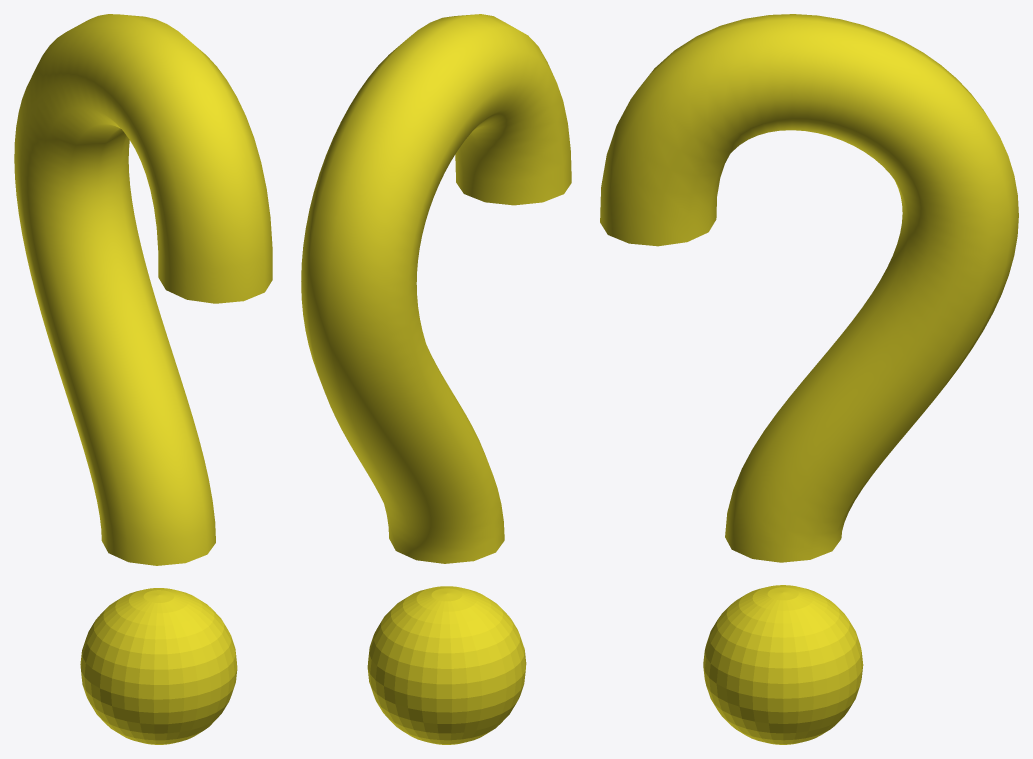
File: interrogation.fbx
3 views of the same model, side by side, from view 1: azimuth 30°, elevation 25°; view 2: azimuth 150°, elevation 25°; view 3: azimuth 270°, elevation 25° (orthographic).
Parts seen in each view (by area): view 1: NurbsPath, Sphere; view 2: NurbsPath, Sphere; view 3: NurbsPath, Sphere.
Boxes of the visible parts, x1,y1,x2,y2 form: NurbsPath: (14, 14, 272, 565); Sphere: (80, 588, 237, 744); NurbsPath: (301, 14, 571, 563); Sphere: (367, 586, 526, 744); NurbsPath: (600, 14, 1018, 562); Sphere: (703, 585, 863, 744).
Size of the model in its own units: 200 by 989 by 523.
